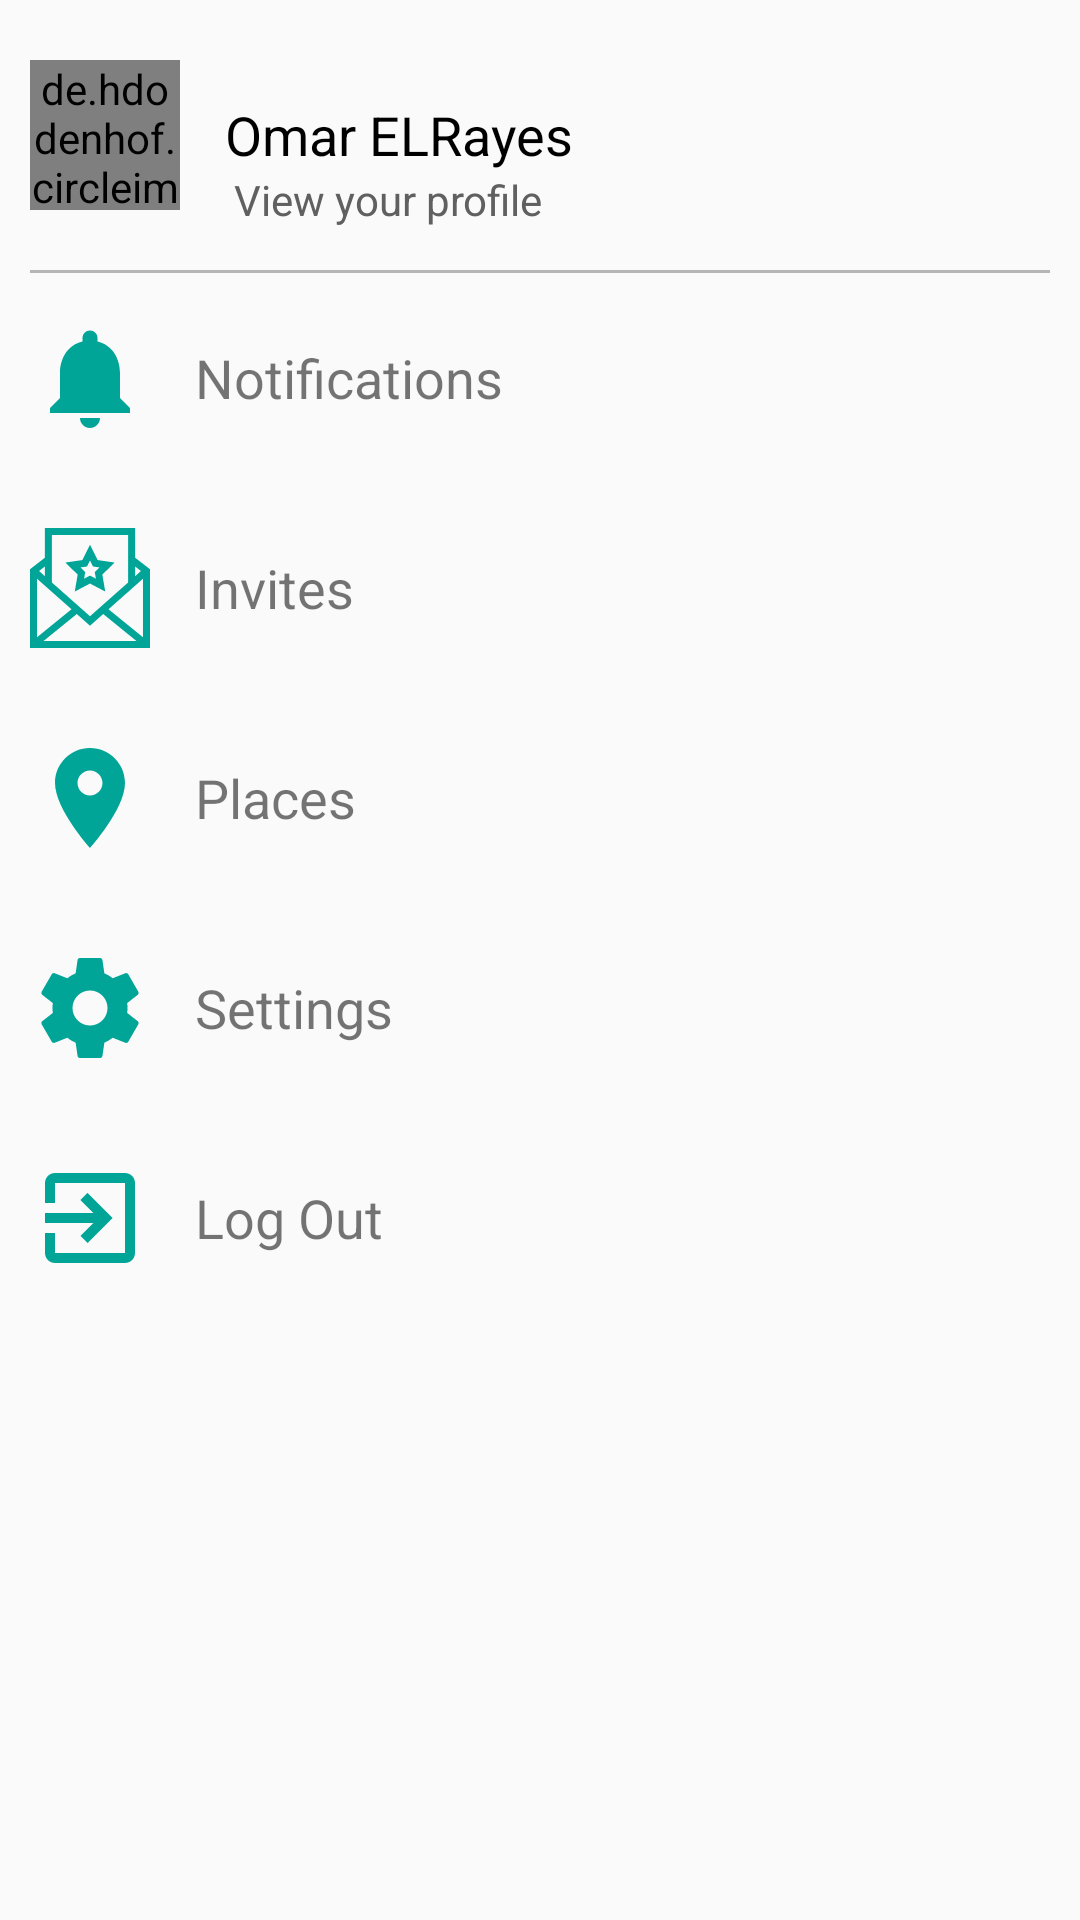

Locate icon controls on the screen. Image size 1080w x 1920h, boxes as (x1, y1, x2, y2).
invitations: (30, 528, 150, 648)
